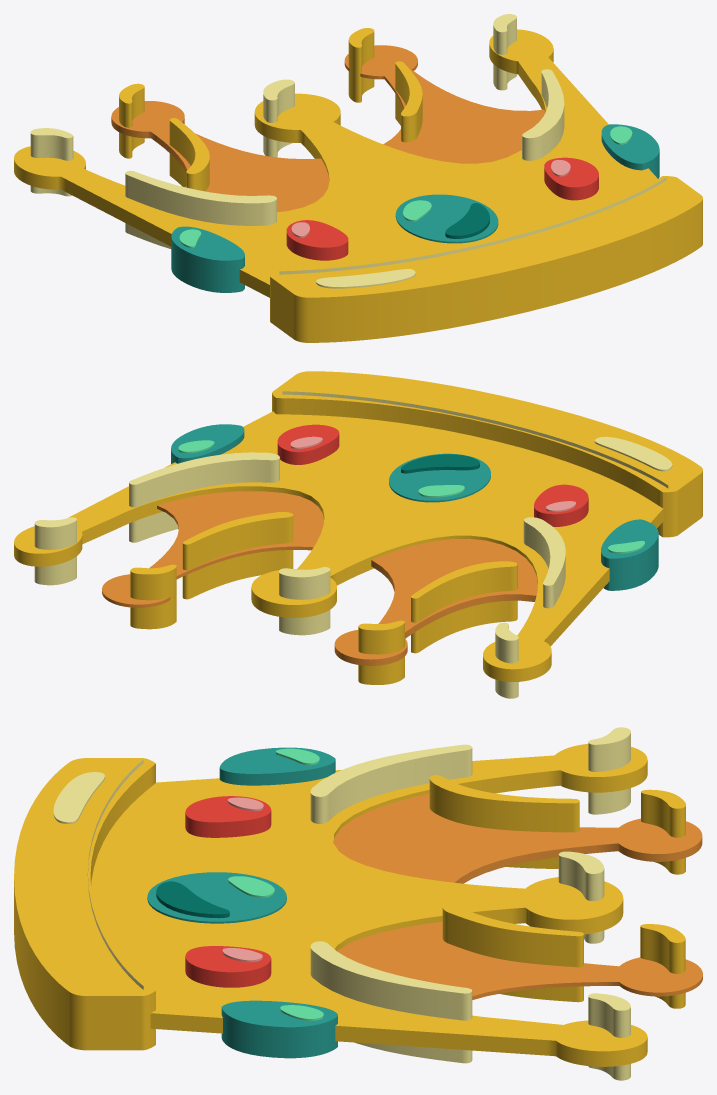
The model's file is emoji_u1f451.glb.
3 views of the same model, one above another, from view 1: azimuth 30°, elevation 25°; view 2: azimuth 150°, elevation 25°; view 3: azimuth 270°, elevation 25° (orthographic). The views are drawn at different scales.
Visible parts, largest first — view 1: emoji_u1f451; view 2: emoji_u1f451; view 3: emoji_u1f451.
Boxes of the visible parts, x1,y1,x2,y2 form: emoji_u1f451: (14, 14, 702, 342); emoji_u1f451: (14, 371, 702, 698); emoji_u1f451: (14, 727, 702, 1080).
Size of the model in its own units: 0.0341 by 0.0036 by 0.0322.
